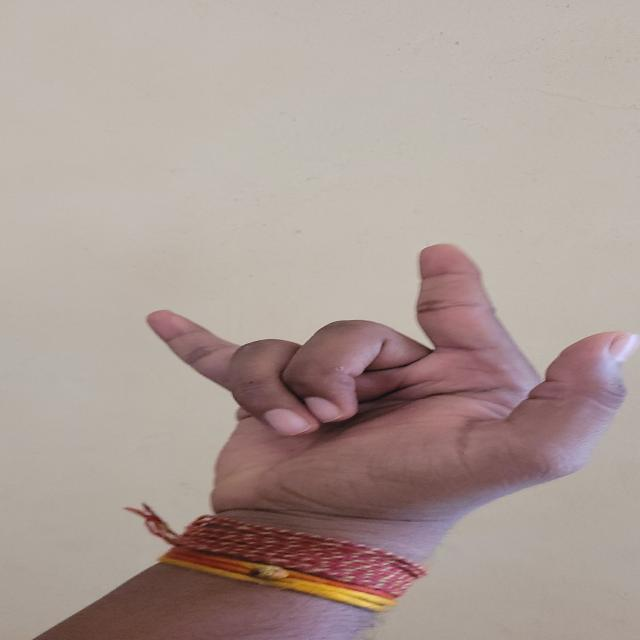i like you: (68, 224, 630, 554)
